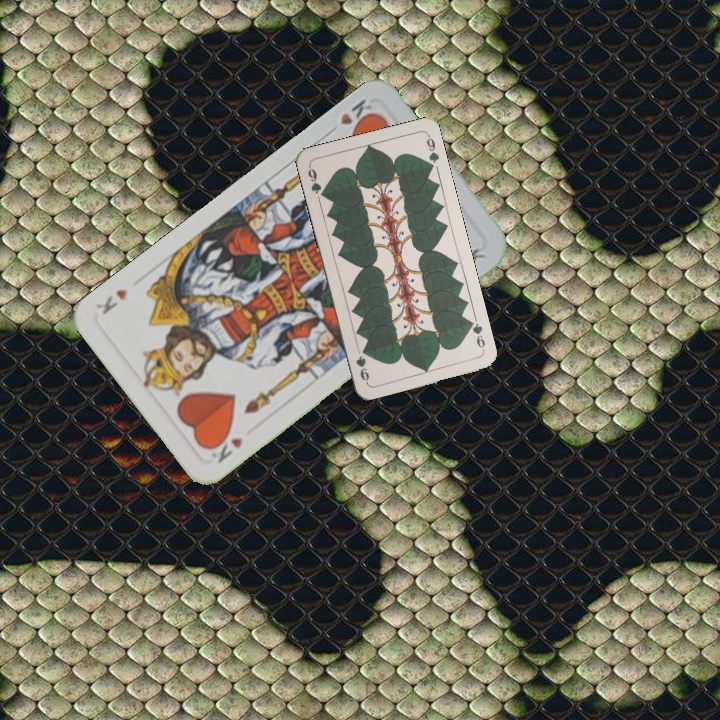G9: (304, 162, 328, 200), (464, 316, 488, 354)
HK: (336, 95, 380, 135), (204, 428, 246, 466)
